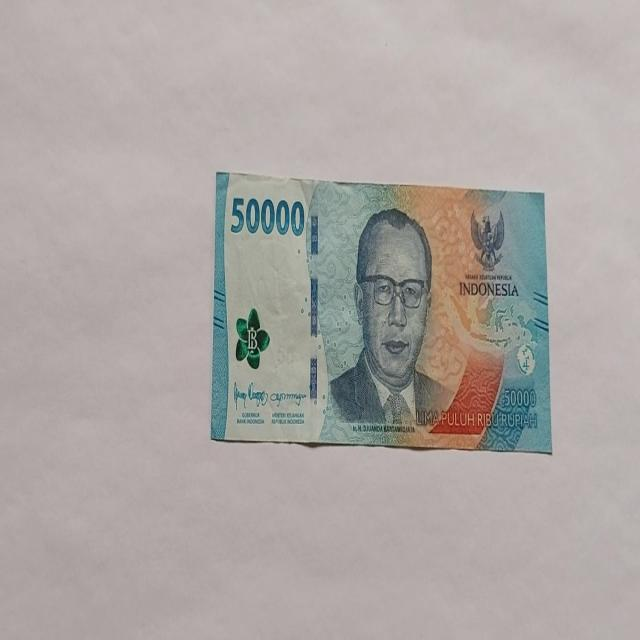lima puluh ribu rupiah: (210, 170, 552, 452), (318, 205, 454, 443)
